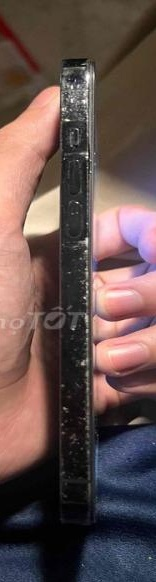scratch: (43, 62, 131, 521)
